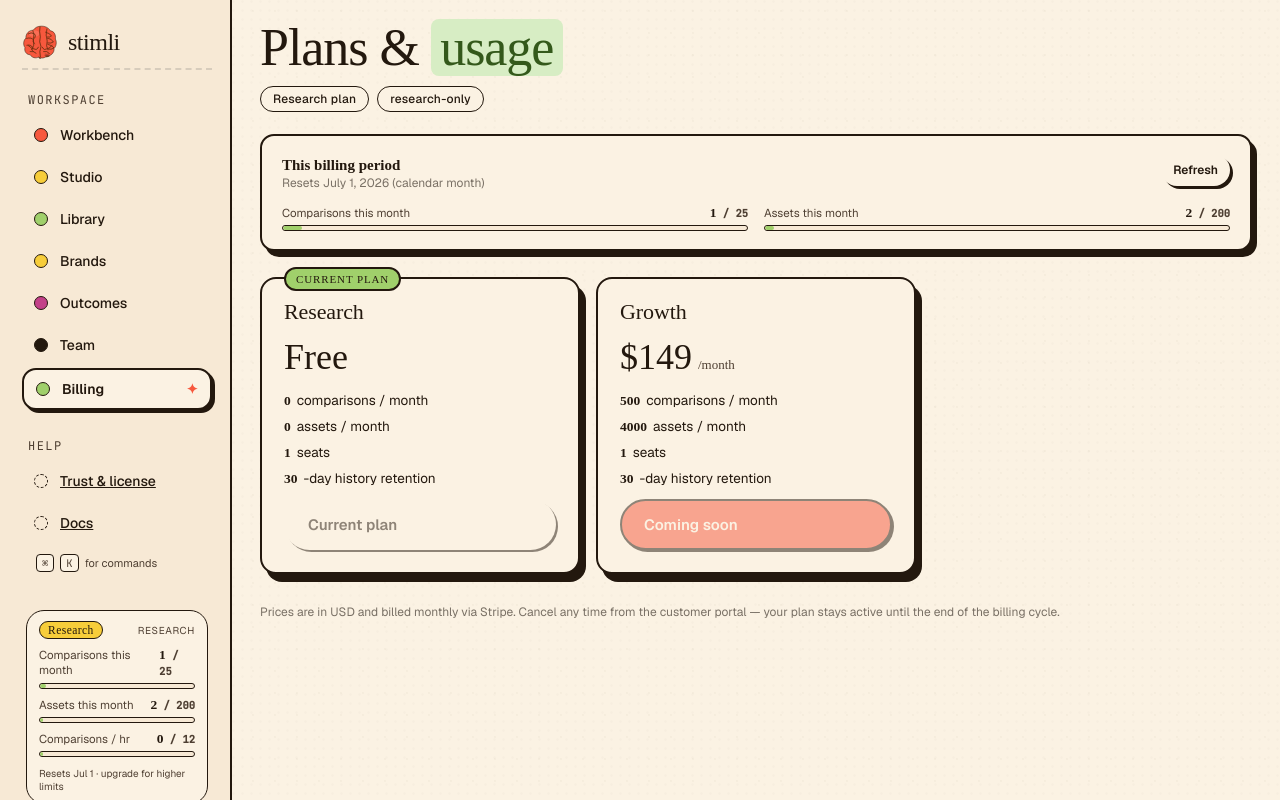
Test: AppShell routing and shell flows › updates the URL when a sidebar view changes
Expected: the heading "Plans & usage" is shown, [260, 22, 563, 74]
Click the button "Library".
click(117, 219)  # box [22, 200, 212, 238]
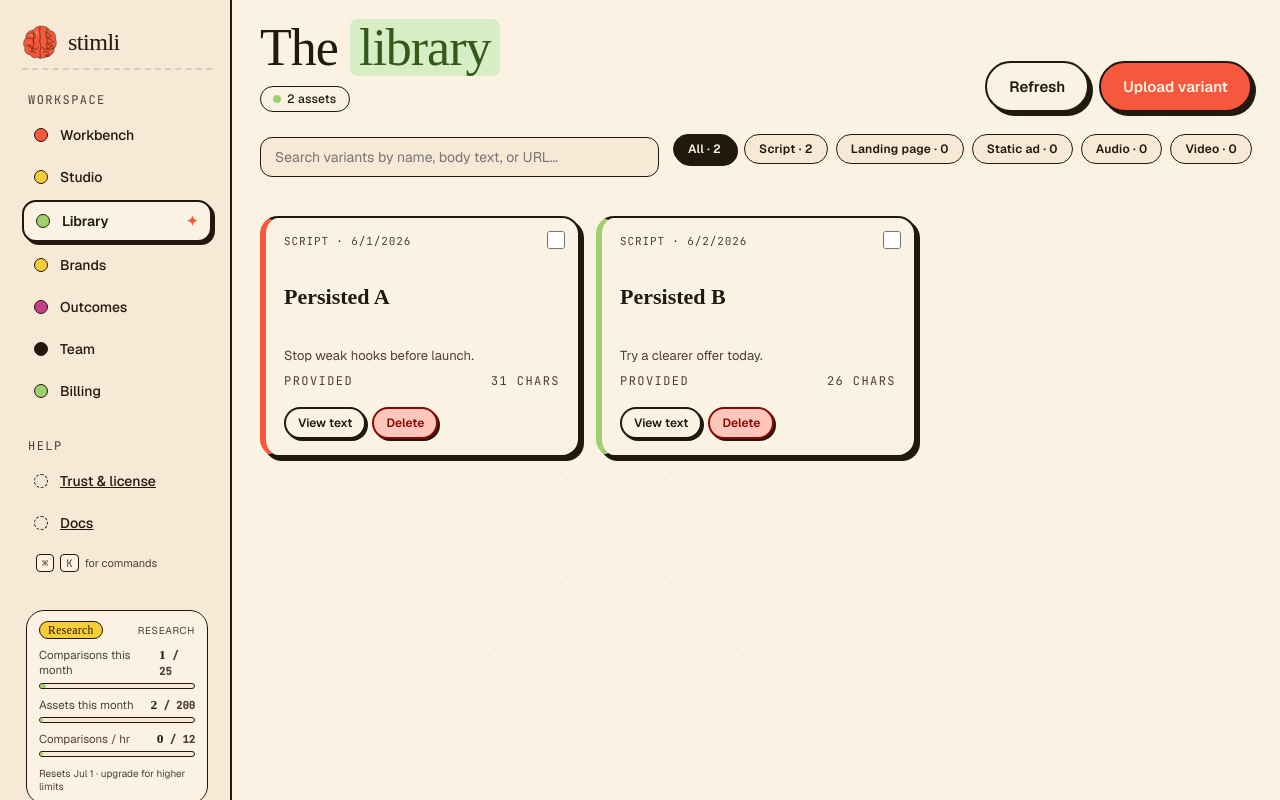
Expected: the heading "The library" is shown, [260, 22, 500, 74]
